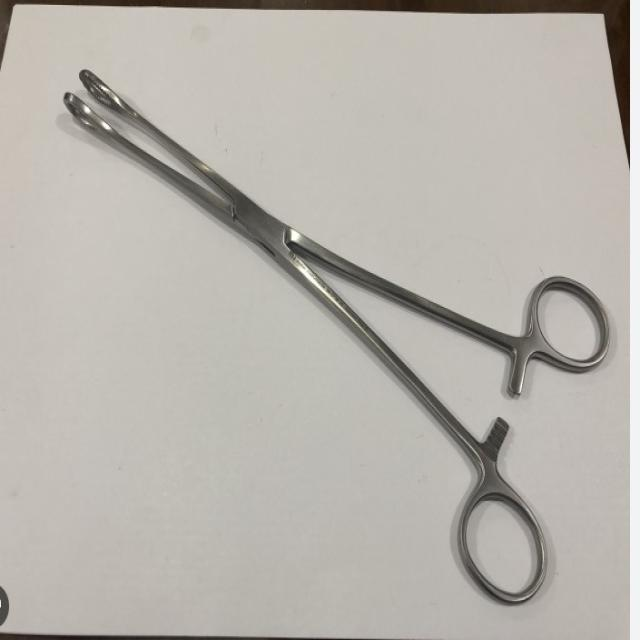Sponge Holding Forceps: (60, 53, 618, 622)
